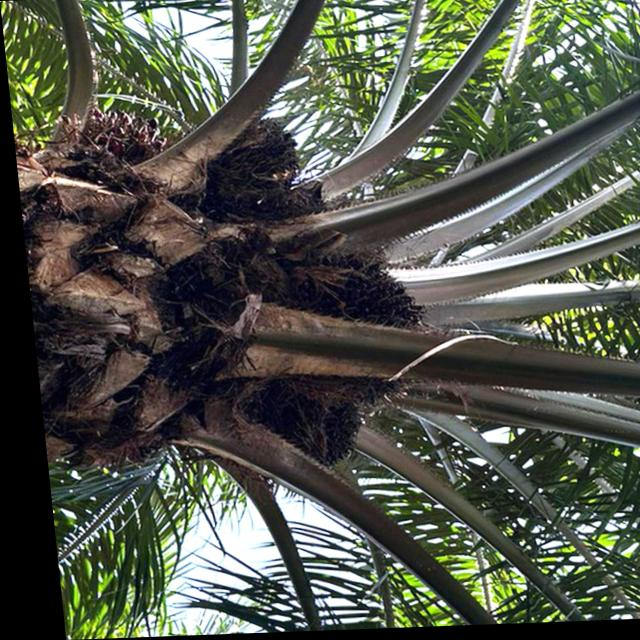ripe: (276, 229, 438, 429)
